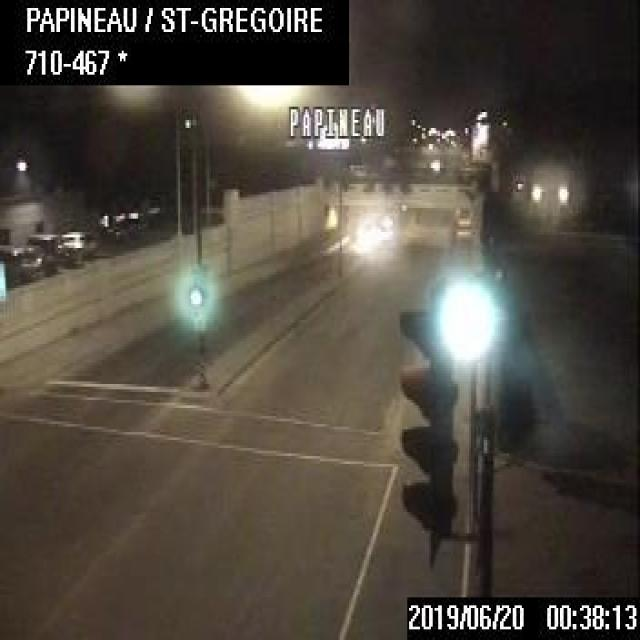vehicle: (0, 244, 36, 284), (24, 232, 56, 272), (60, 227, 98, 260), (21, 242, 53, 272)
